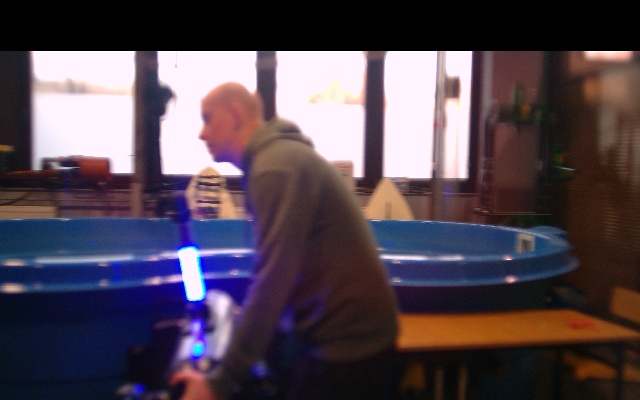blue: (177, 247, 207, 302)
